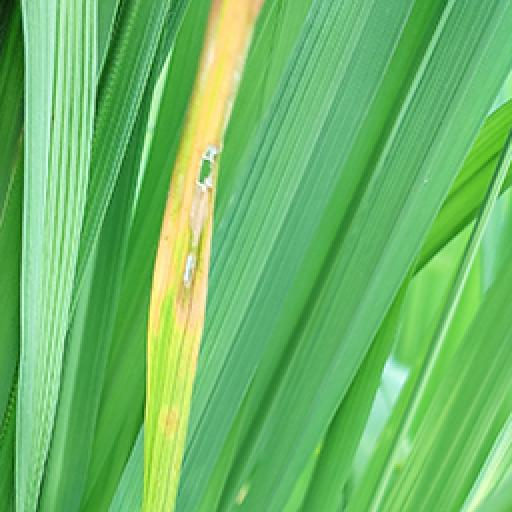Sheath Blight: (144, 0, 270, 436)
